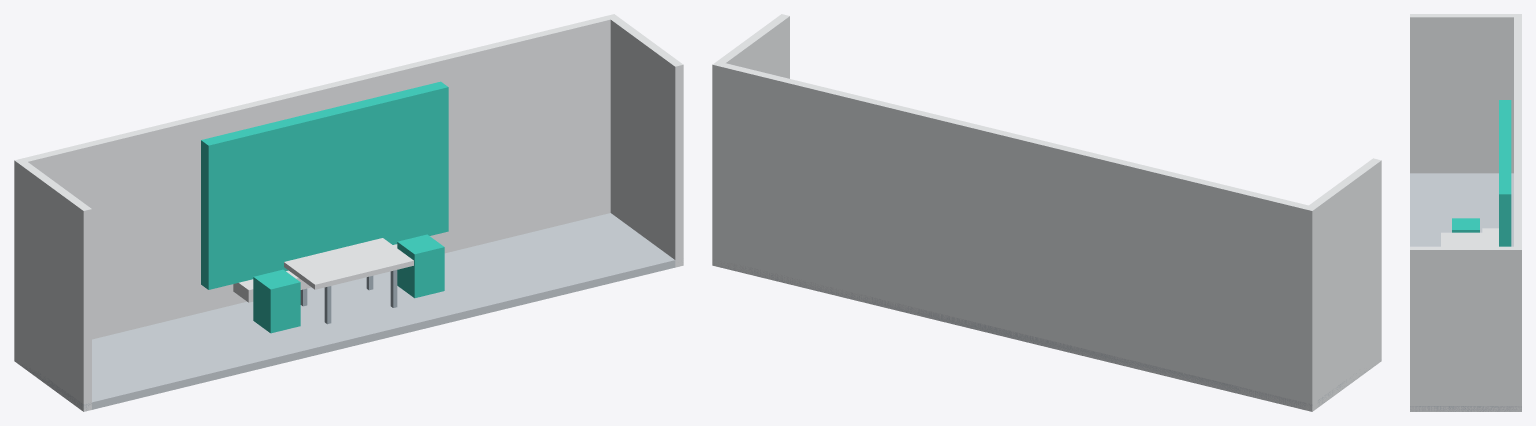
3 renders of one model, left to right at view 1: azimuth 30°, elevation 25°; view 2: azimuth 150°, elevation 25°; view 3: azimuth 270°, elevation 25°, orthographic. The views are drawn at different scales.
Visible parts, largest first — view 1: Exhibition Booth Concept; view 2: Exhibition Booth Concept; view 3: Exhibition Booth Concept.
Part boxes in pixels (box(x1,y1,x2,y2)): Exhibition Booth Concept: box(14, 14, 683, 411); Exhibition Booth Concept: box(712, 14, 1381, 411); Exhibition Booth Concept: box(1410, 14, 1521, 411).
Bounding box in the file's own units: 10 × 3.2 × 2.
